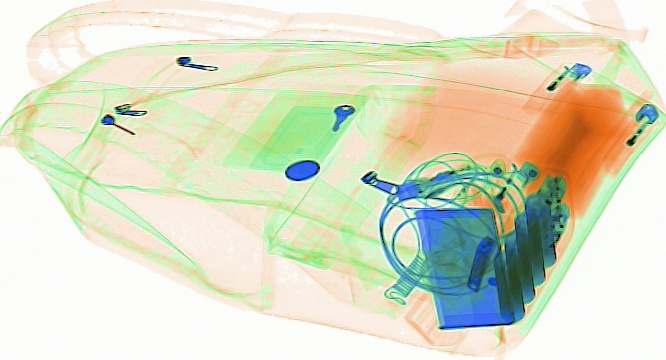lighter: (468, 158, 541, 262), (596, 99, 658, 173), (520, 58, 590, 119)
powerbank: (486, 168, 573, 323)
